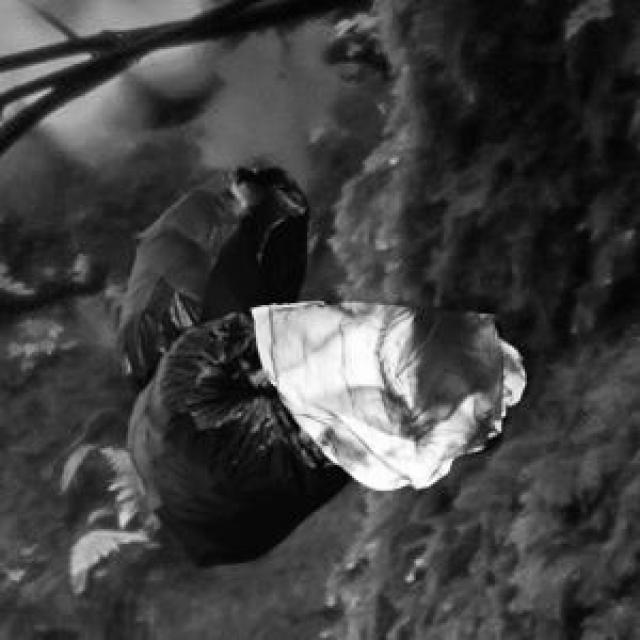miscellaneous trash: (113, 164, 348, 563)
